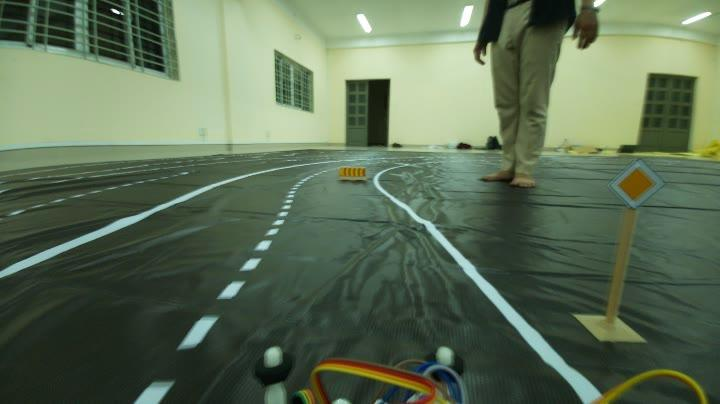priority: (606, 151, 664, 214)
roadblock: (336, 164, 375, 184)
